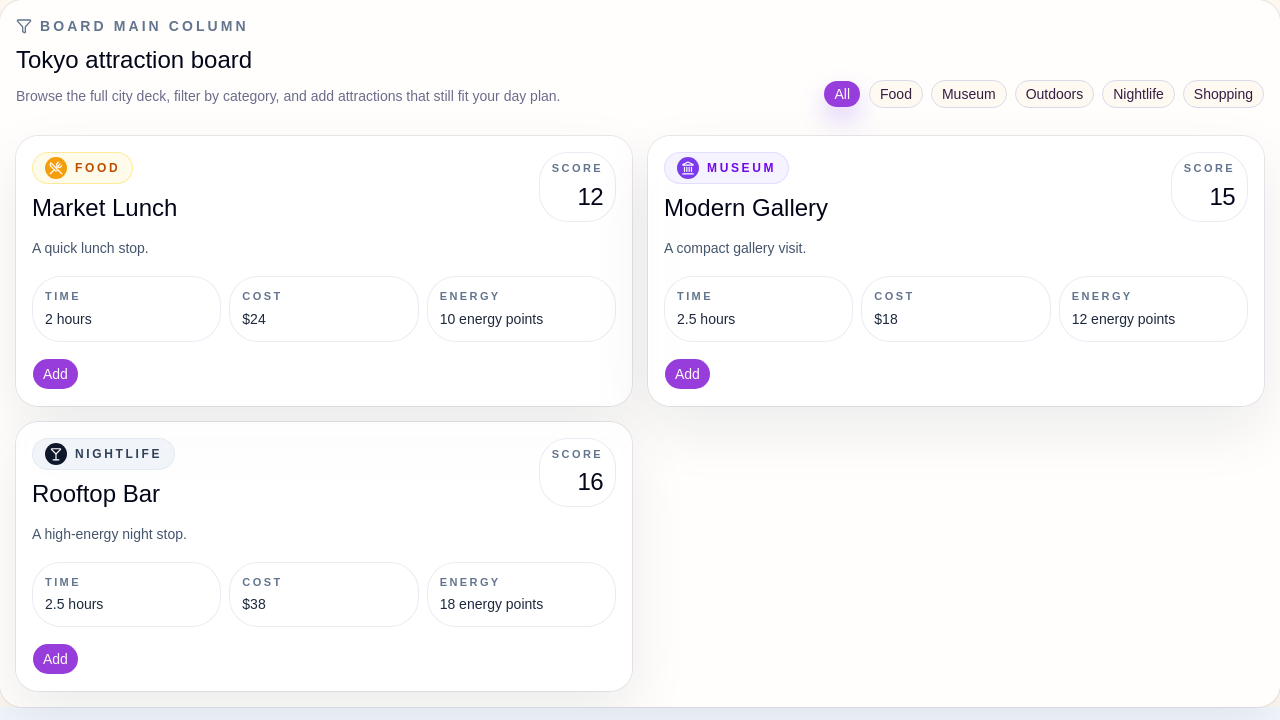
it: AttractionGrid › filters the grid by category chips
Click the button "Food".
click(896, 94)  # box [869, 80, 923, 108]
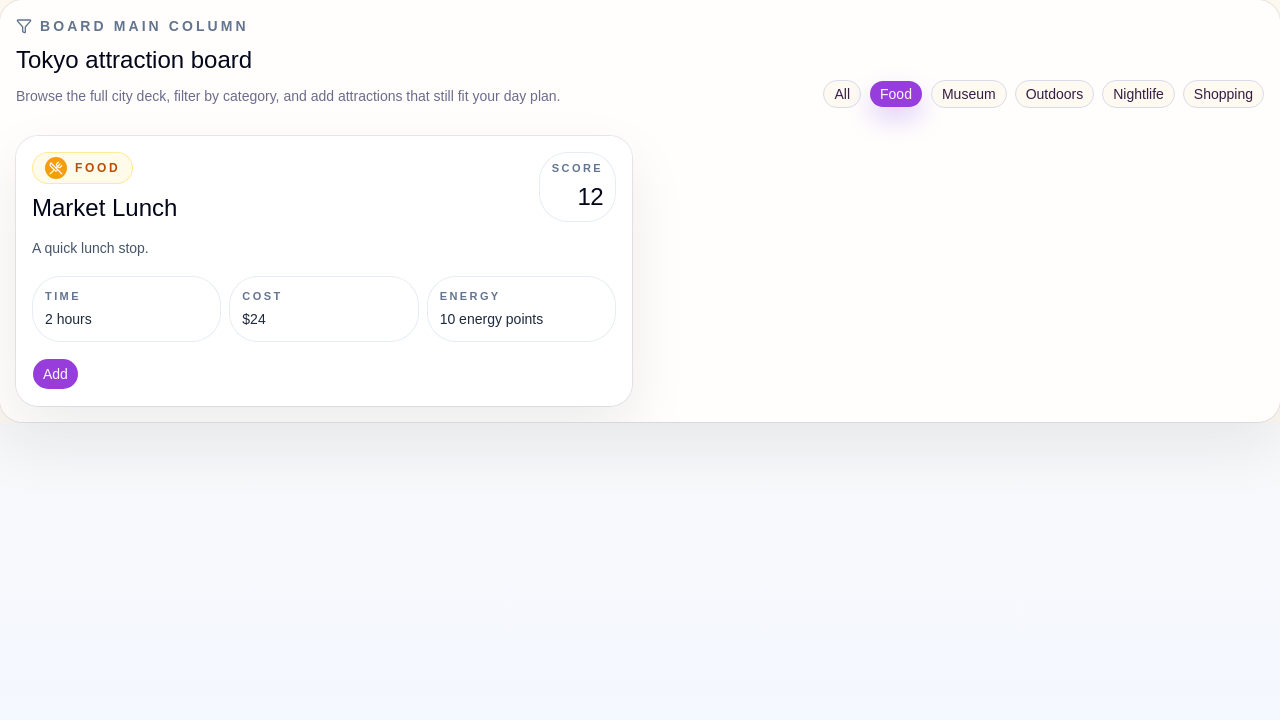
Expected: the heading "Market Lunch" is shown, [32, 192, 177, 224]
Result: the heading "Modern Gallery" is gone
Result: the heading "Rooftop Bar" is gone
